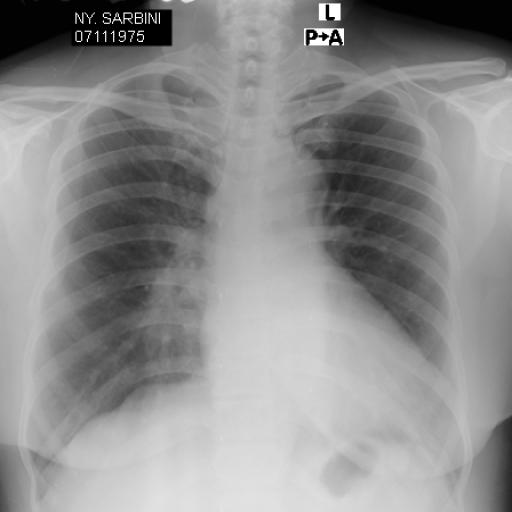kardiomegali: (18, 50, 486, 492)
